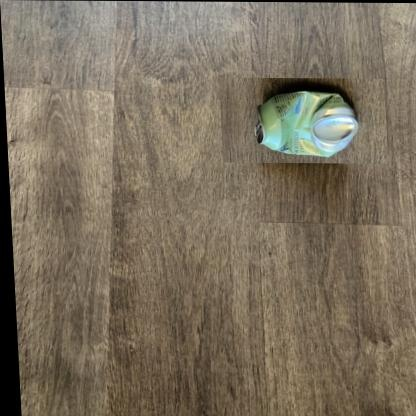trash: (256, 91, 357, 156)
